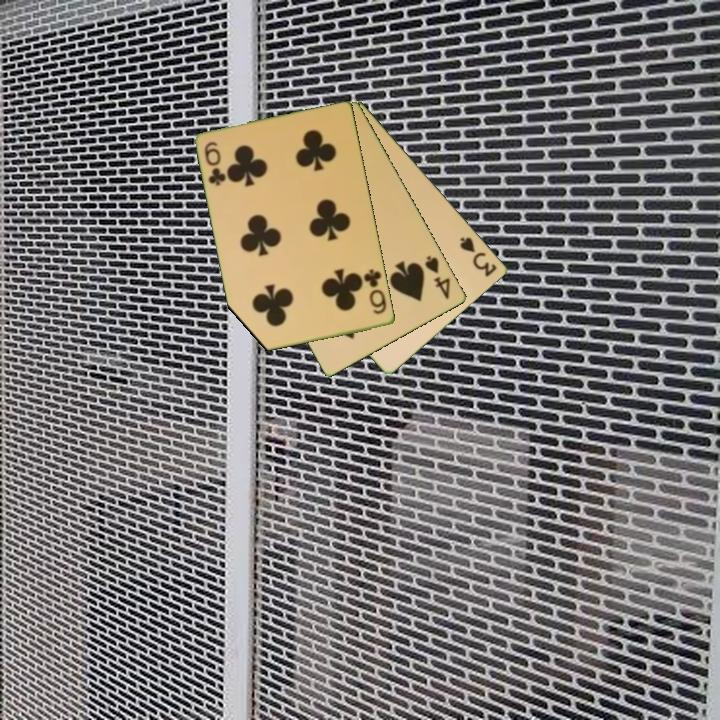3s: (456, 233, 500, 280)
4s: (421, 252, 454, 303)
6c: (360, 266, 390, 317), (201, 138, 229, 189)
